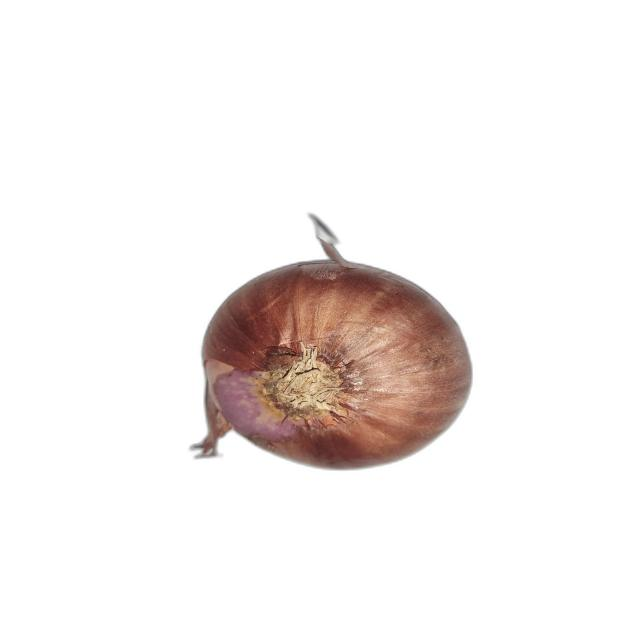onion: (198, 236, 474, 470)
